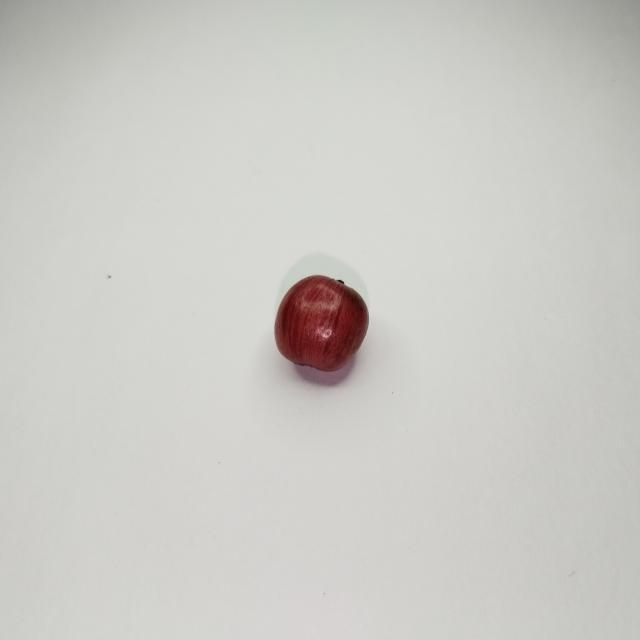Sano: (274, 273, 368, 374)
